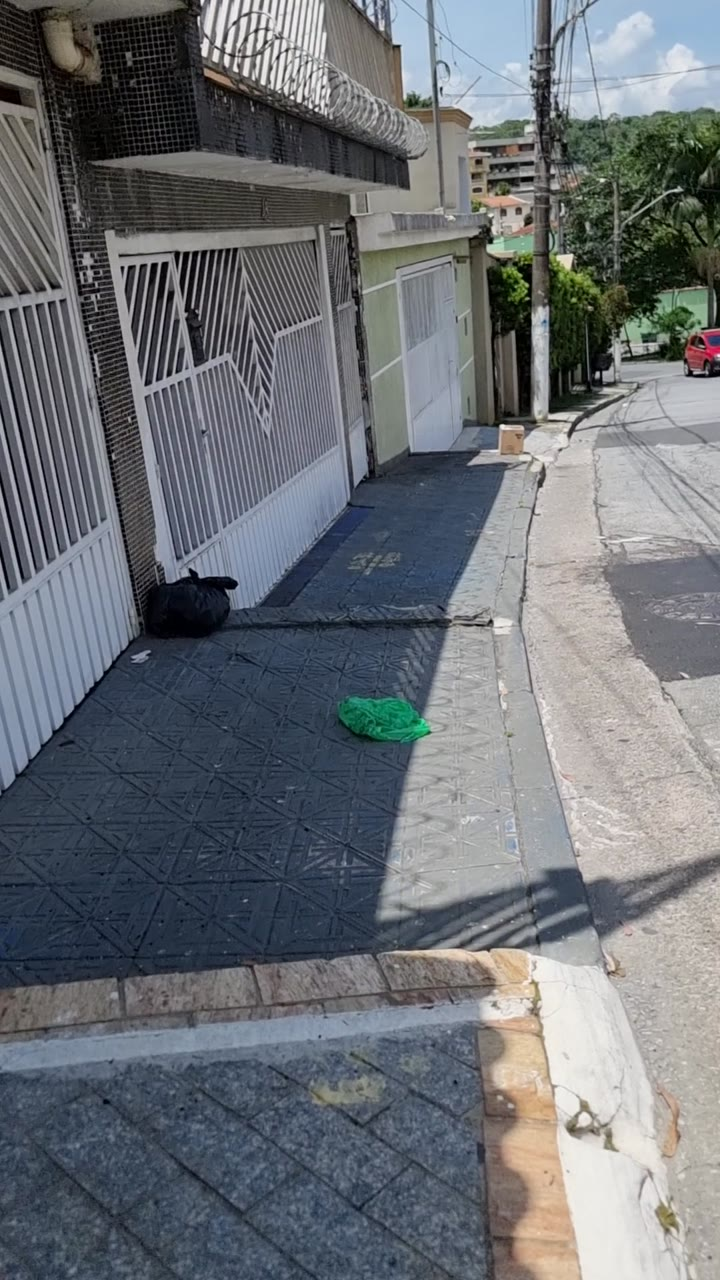desnivel: (0, 947, 706, 1075), (216, 589, 540, 653)
obstaculo: (147, 569, 237, 637), (338, 696, 430, 742)
